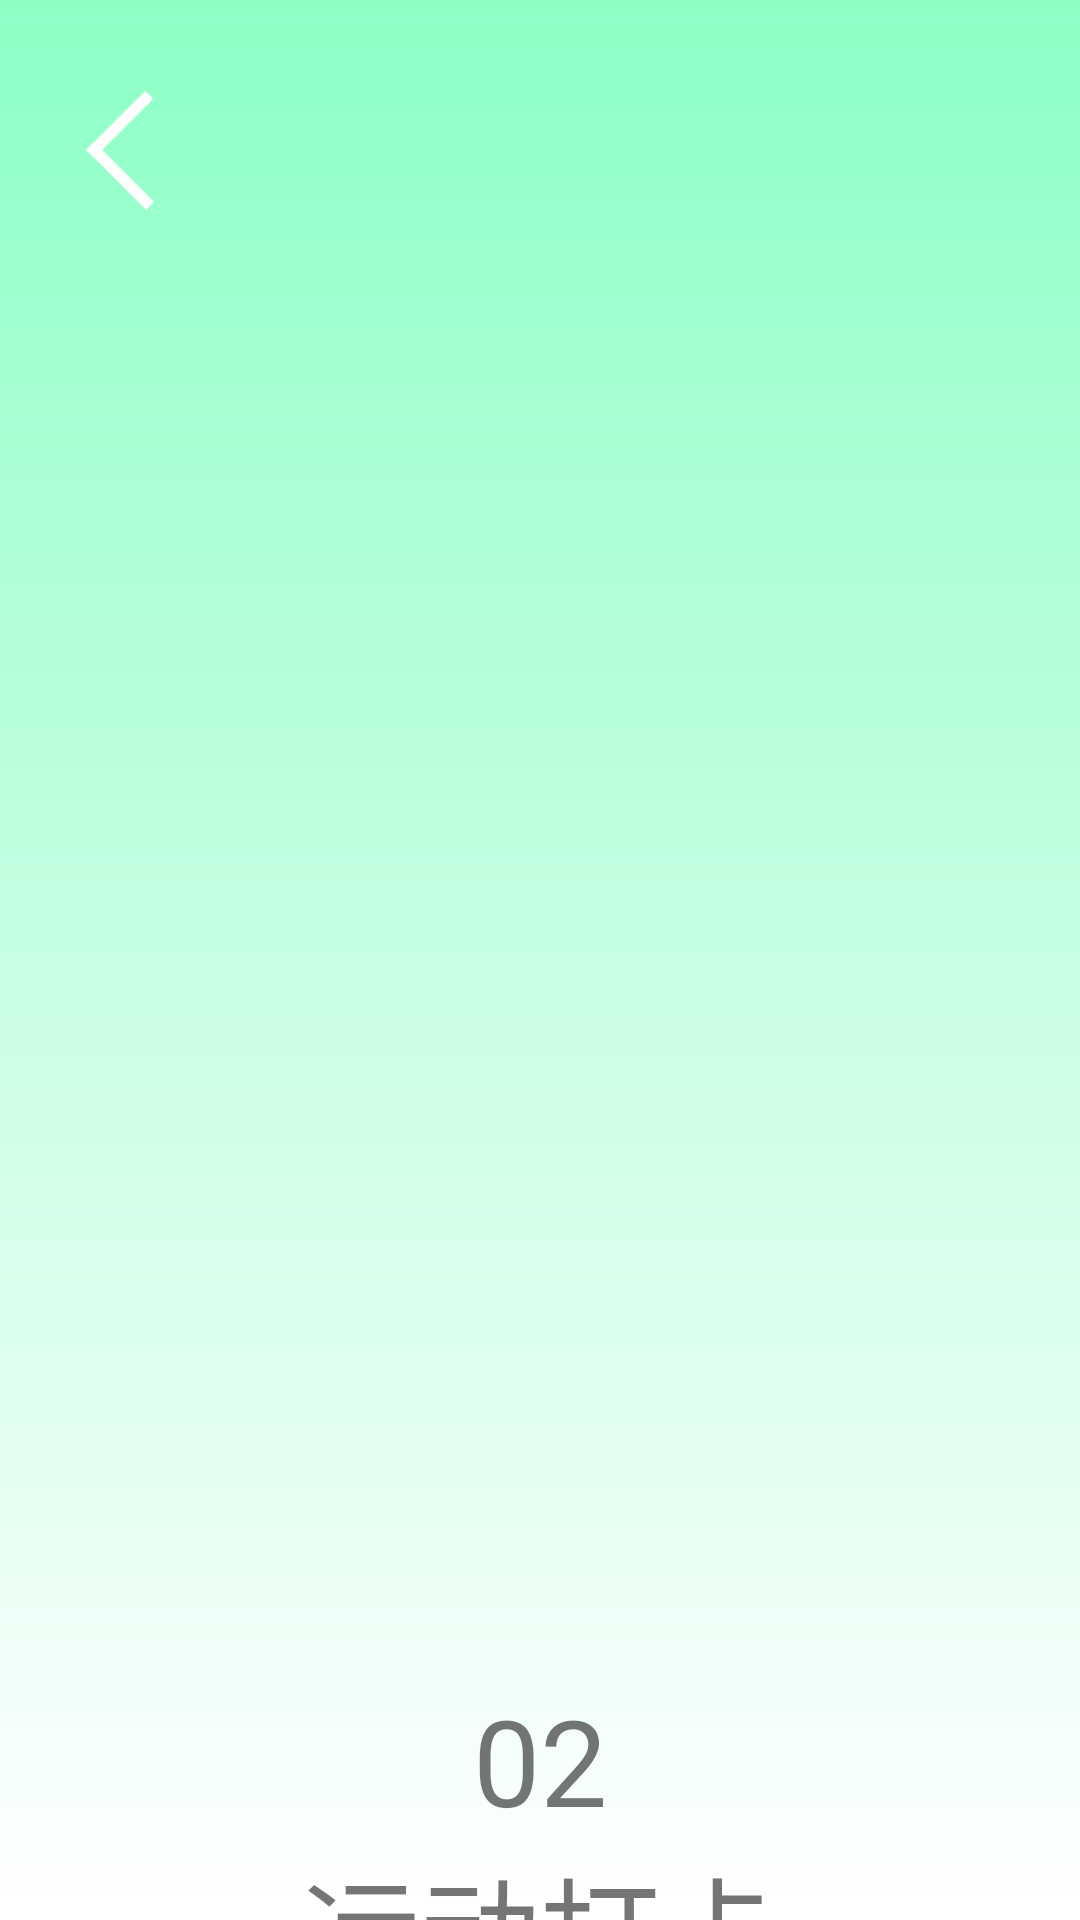

Named icons in this screenshot (1080×1920) and their centers, (x,y):
back: (120,150)
